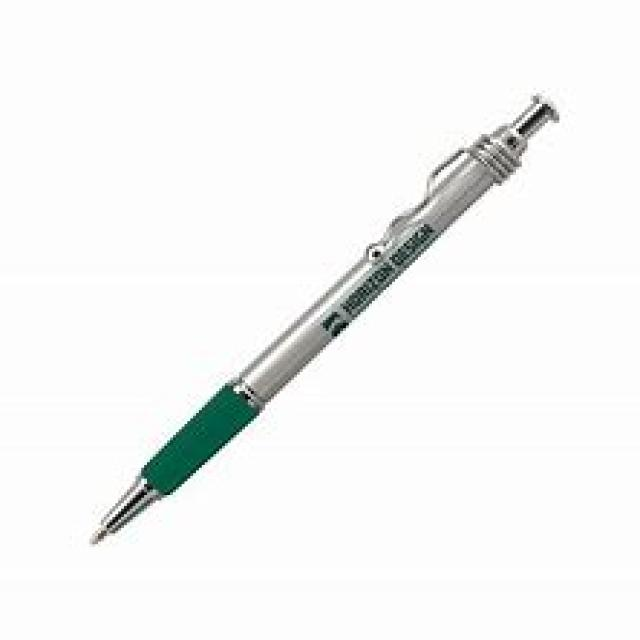pen: (86, 89, 564, 549)
